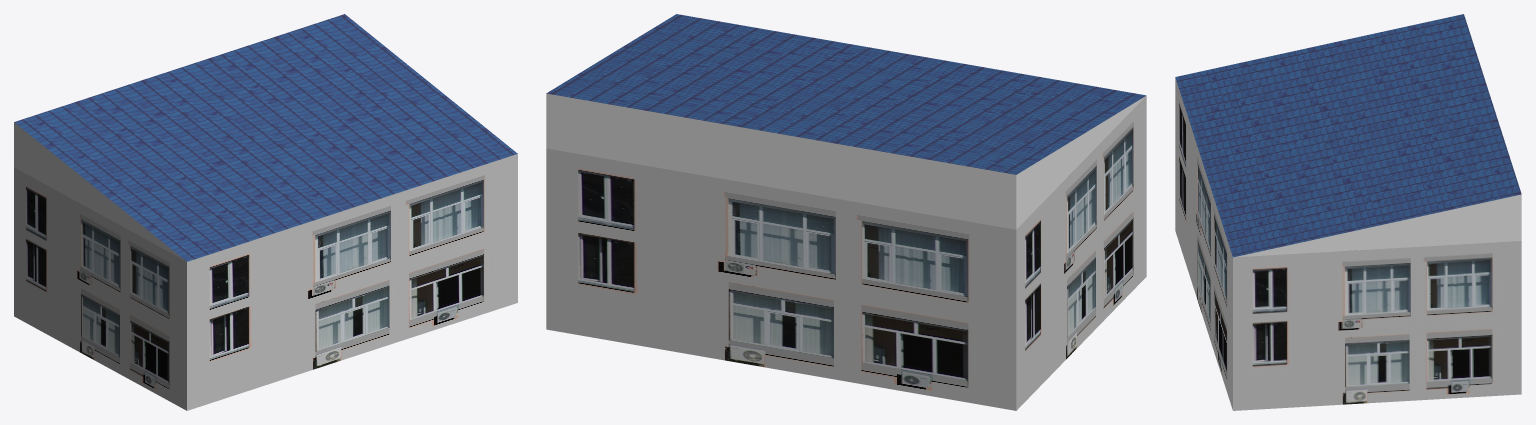
3 views of the same model, side by side, from view 1: azimuth 30°, elevation 25°; view 2: azimuth 150°, elevation 25°; view 3: azimuth 270°, elevation 25° (orthographic). The views are drawn at different scales.
Visible parts, largest first — view 1: CityEngineMaterial_9_m, CityEngineMaterial_10_m, CityEngineMaterial_3_m; view 2: CityEngineMaterial_9_m, CityEngineMaterial_10_m, CityEngineMaterial_3_m; view 3: CityEngineMaterial_10_m, CityEngineMaterial_9_m, CityEngineMaterial_3_m.
Part boxes in pixels (x1=…): CityEngineMaterial_9_m: x1=14, y1=154, x2=517, y2=410; CityEngineMaterial_10_m: x1=14, y1=14, x2=517, y2=261; CityEngineMaterial_3_m: x1=14, y1=122, x2=186, y2=261; CityEngineMaterial_9_m: x1=546, y1=96, x2=1146, y2=410; CityEngineMaterial_10_m: x1=546, y1=14, x2=1146, y2=174; CityEngineMaterial_3_m: x1=546, y1=93, x2=1145, y2=229; CityEngineMaterial_10_m: x1=1175, y1=14, x2=1521, y2=257; CityEngineMaterial_9_m: x1=1175, y1=78, x2=1521, y2=410; CityEngineMaterial_3_m: x1=1234, y1=194, x2=1521, y2=257.
Bounding box in the file's own units: 26.97 × 12.78 × 20.06.
